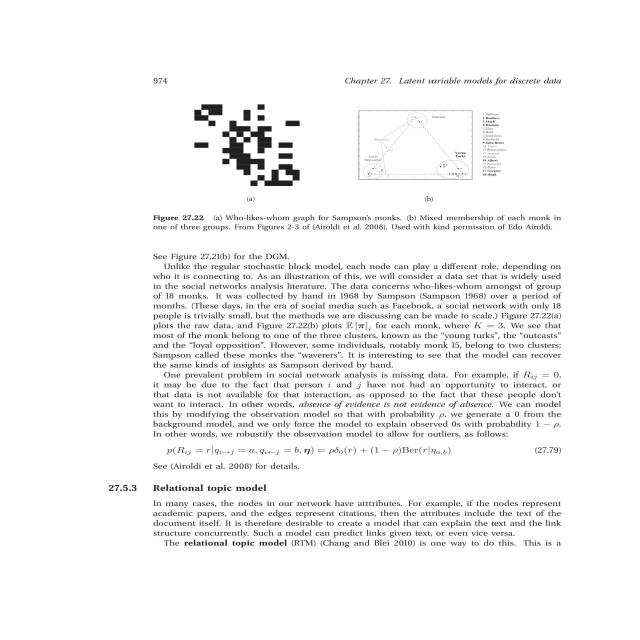diagram: (115, 62, 573, 246)
